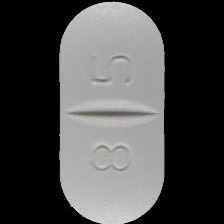43063-680: (0, 0, 224, 224)
